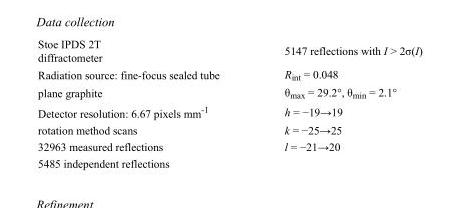table: (37, 37, 421, 169)
table column: (37, 37, 251, 169), (251, 37, 421, 169)
table row: (37, 37, 421, 65), (37, 101, 421, 121), (37, 65, 421, 83), (37, 83, 421, 101), (37, 137, 421, 154), (37, 121, 421, 137), (37, 154, 421, 169)
